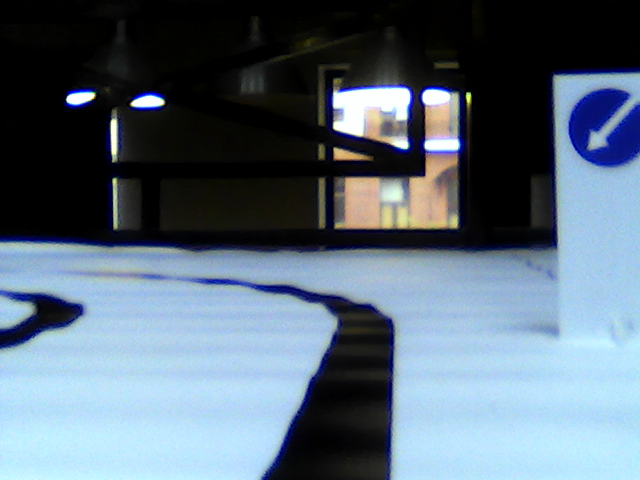prep: (567, 84, 637, 171)
